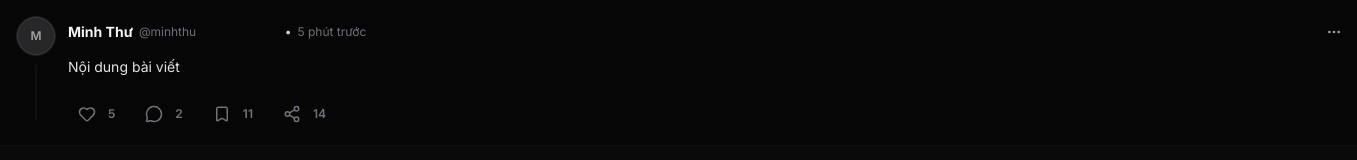
PostCard store sync › seeds the store and updates the count when liking a post not yet cached
Click the button named "Thích".
click(87, 114)  # box [72,99,102,129]
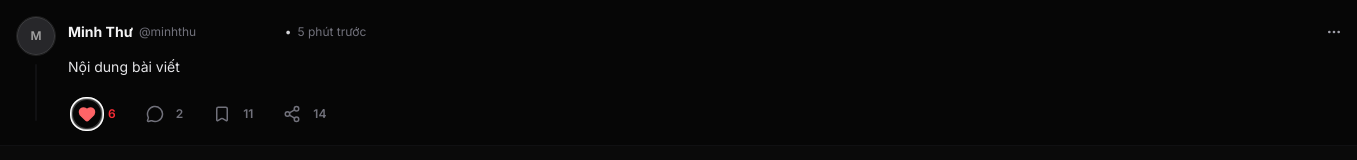
Expected: the text "6" is shown, [108,106,116,122]
